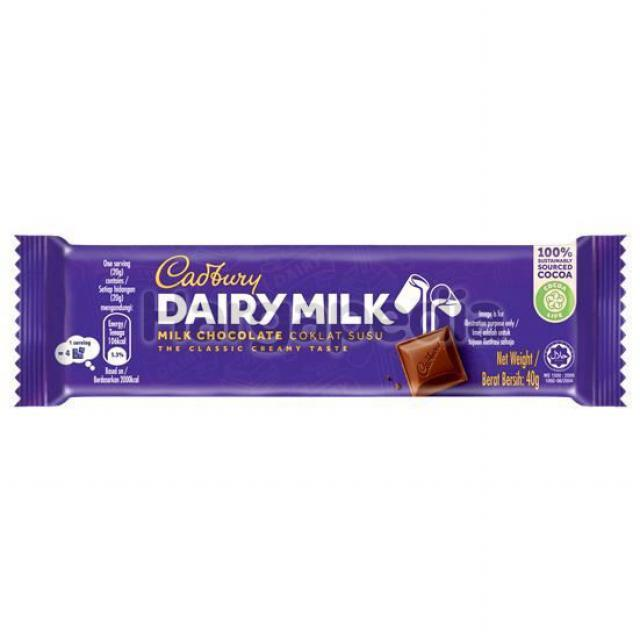cadbury_chocolate: (25, 230, 640, 437)
